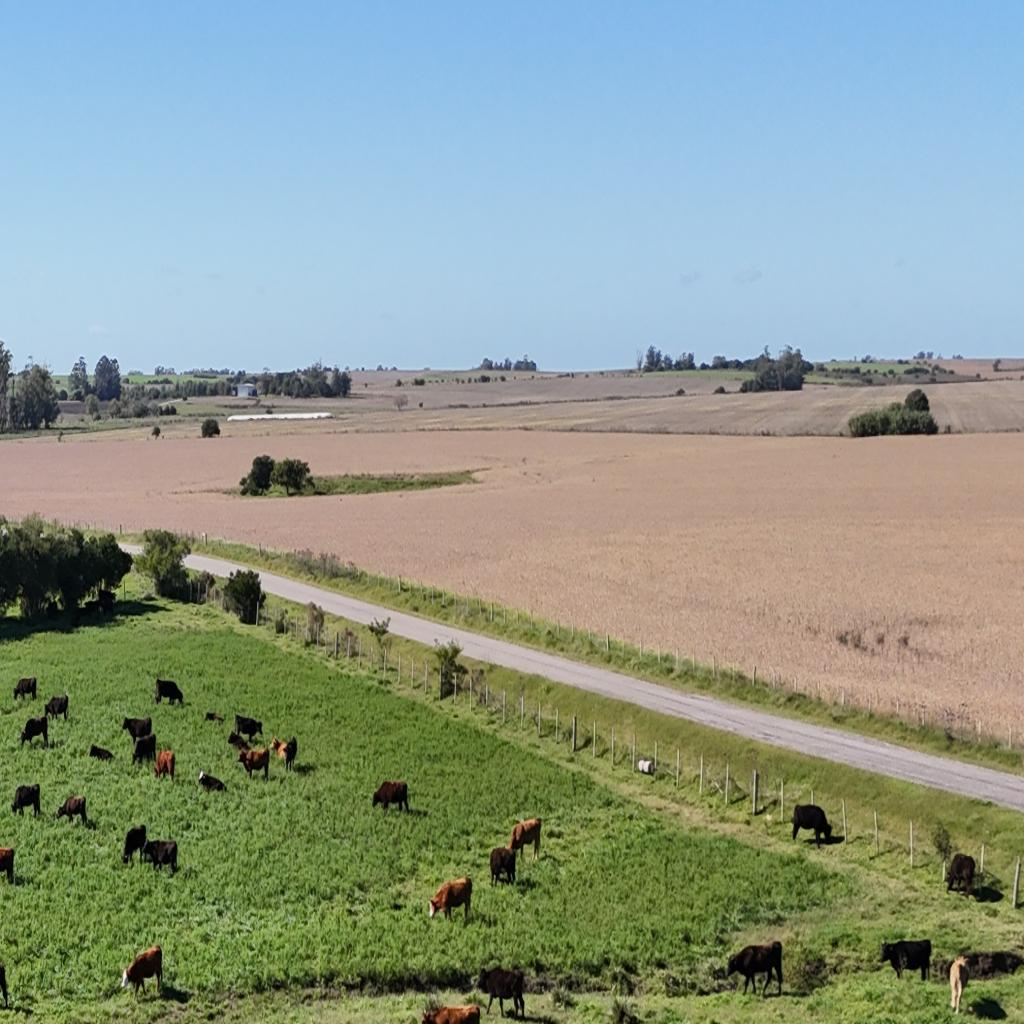cow: (723, 942, 779, 998), (478, 963, 526, 1019), (878, 938, 932, 982), (122, 945, 162, 1000), (428, 877, 472, 924), (954, 950, 1022, 980), (792, 803, 831, 849), (508, 816, 541, 862), (140, 838, 178, 876), (372, 780, 411, 816), (418, 1003, 480, 1024), (946, 853, 976, 895), (949, 954, 969, 1016), (489, 845, 517, 887), (238, 747, 270, 782), (12, 783, 41, 819), (122, 824, 147, 865), (56, 794, 88, 826), (19, 716, 48, 751), (154, 678, 184, 707), (132, 732, 156, 768), (122, 716, 152, 744), (234, 715, 263, 742), (152, 750, 175, 783), (44, 694, 69, 723), (13, 676, 37, 704), (198, 769, 226, 793), (0, 846, 14, 886), (97, 588, 116, 613), (89, 744, 115, 762), (284, 736, 296, 772), (227, 731, 249, 749), (270, 737, 288, 759), (45, 598, 63, 618), (205, 710, 225, 722)
